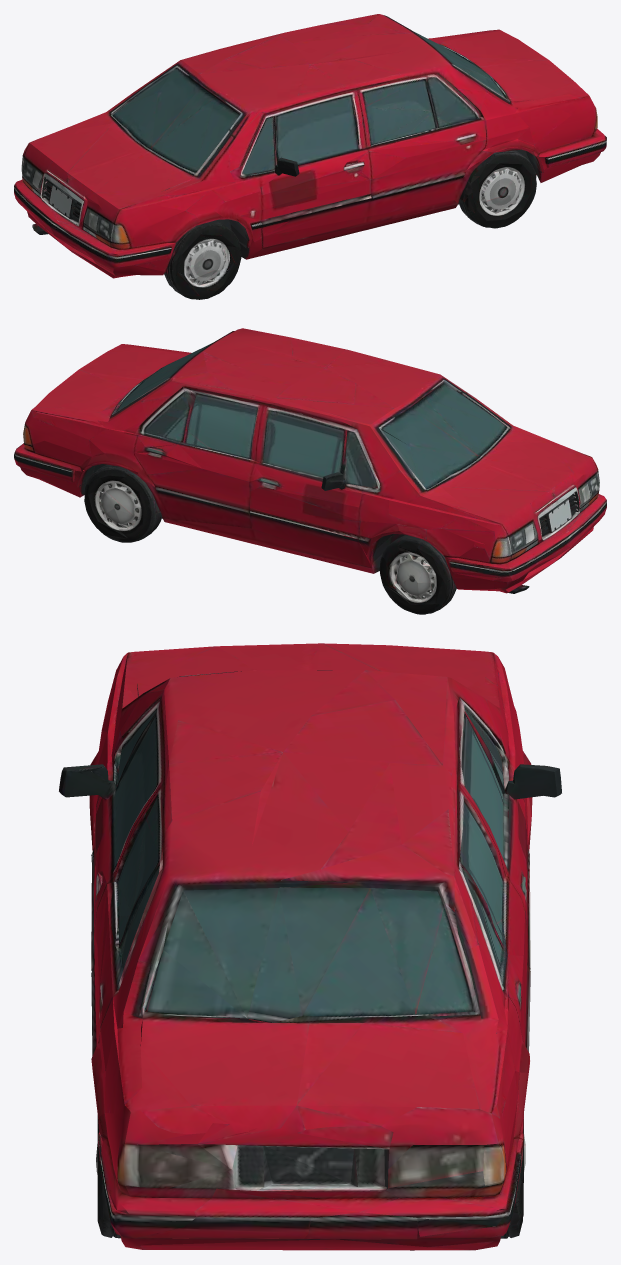
File: coche_berlina.glb
3 views of the same model, one above another, from view 1: azimuth 30°, elevation 25°; view 2: azimuth 150°, elevation 25°; view 3: azimuth 270°, elevation 25° (orthographic). The views are drawn at different scales.
Bounding box in the file's own units: 1.9 × 0.5965 × 0.8127.
1 material, 1 textured.
